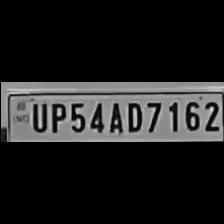1: (162, 99, 180, 133)
2: (201, 97, 221, 132)
4: (87, 99, 105, 133)
5: (66, 100, 86, 132)
6: (180, 98, 200, 132)
7: (142, 99, 162, 134)
A: (104, 99, 124, 134)
D: (122, 99, 142, 133)
P: (47, 100, 65, 134)
U: (27, 101, 47, 133)
